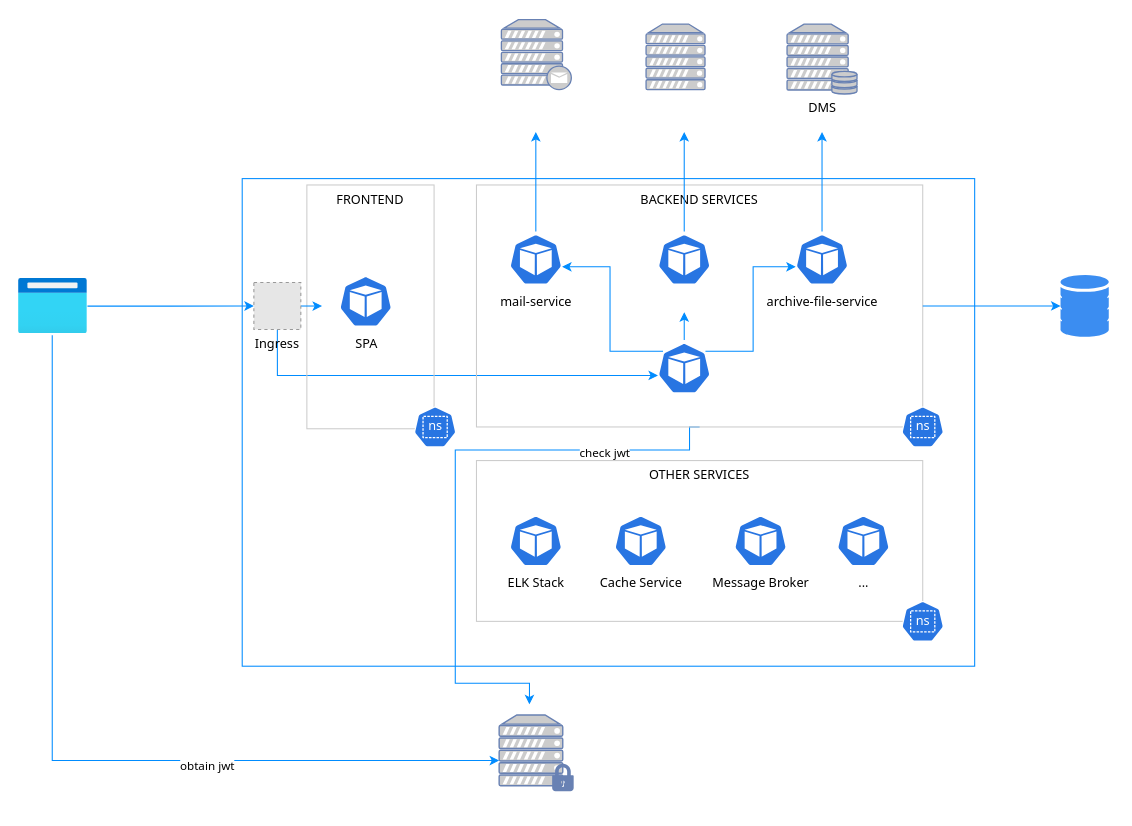
This 1132x826 diagram has some shape labels left out. Grey dashed boxes stand in for pictures. Here are the shapes that lost their labels. From the top down, the centre of each, then its label:
At (536,54): "Mail Server".
At (675,56): "HSM".
At (684,259): "digital-sign-service".
At (52,305): "User Agent".
At (1084,305): "External Datastore".
At (684,367): "orchestrator-service".
At (530,749): "IAM".
